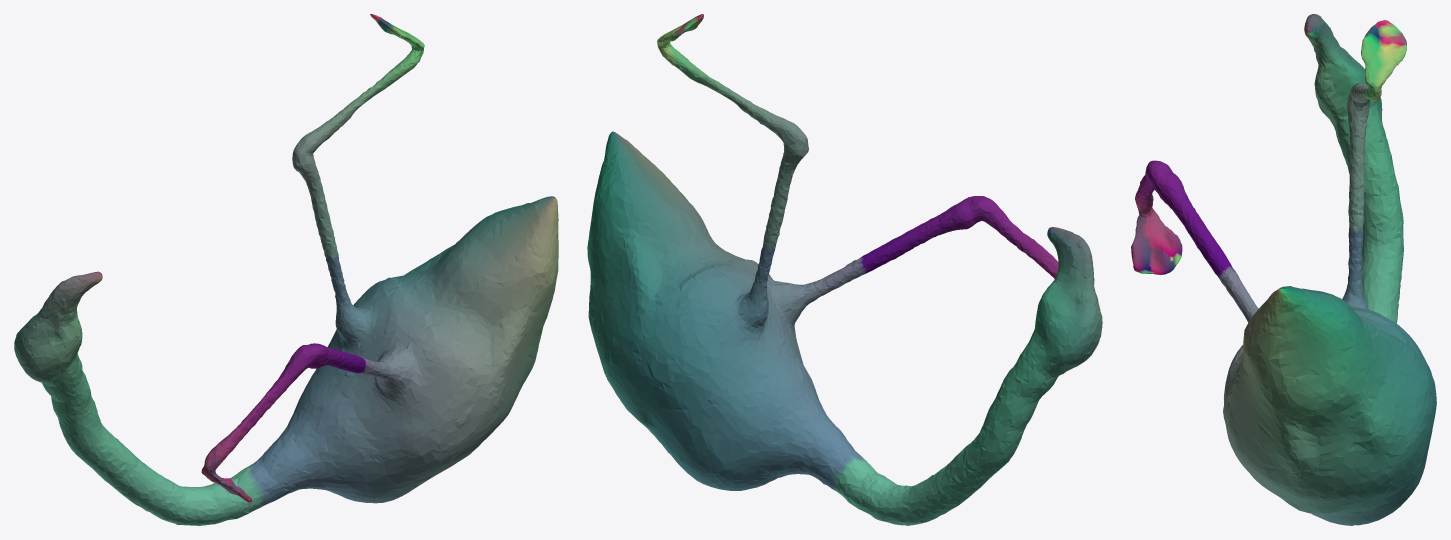
The model's file is flamingo-7.off.obj.
3 views of the same model, side by side, from view 1: azimuth 30°, elevation 25°; view 2: azimuth 150°, elevation 25°; view 3: azimuth 270°, elevation 25° (orthographic). The views are drawn at different scales.
Bounding box in the file's own units: 1.43 × 1.26 × 0.687.
